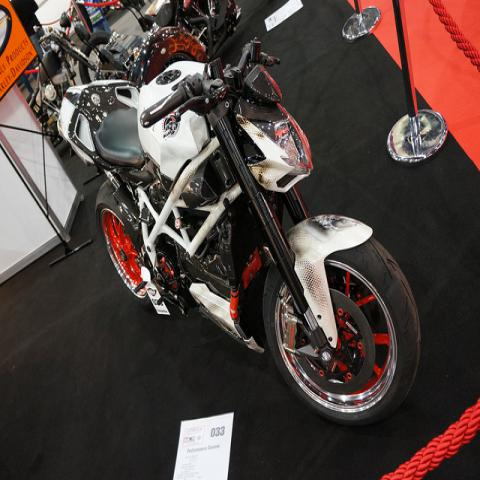motorcycle: (54, 36, 423, 426), (35, 8, 109, 151), (129, 2, 239, 82)
